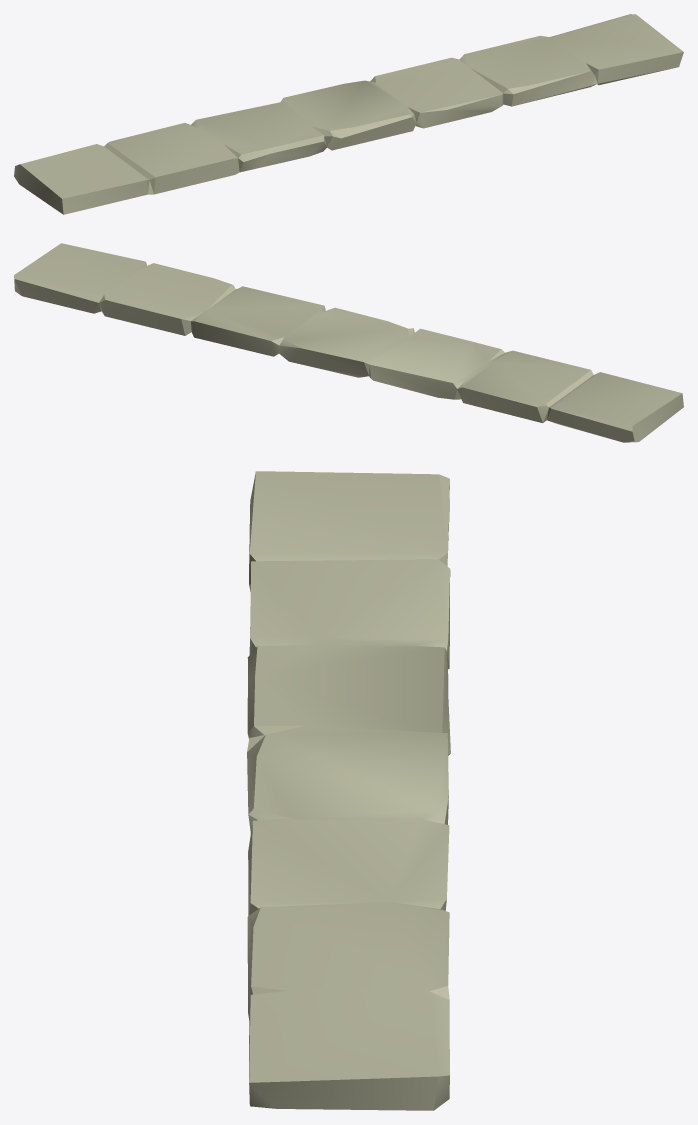
File: SM_rocktile004.fbx
3 views of the same model, one above another, from view 1: azimuth 30°, elevation 25°; view 2: azimuth 150°, elevation 25°; view 3: azimuth 270°, elevation 25° (orthographic). The views are drawn at different scales.
Parts seen in each view (by area): view 1: SM_rocktile004; view 2: SM_rocktile004; view 3: SM_rocktile004.
Boxes of the visible parts, box(x1,y1,x2,y2) form: SM_rocktile004: box(14, 14, 683, 214); SM_rocktile004: box(14, 243, 683, 442); SM_rocktile004: box(247, 471, 450, 1110).
Bounding box in the file's own units: 282 × 8.46 × 40.2.
